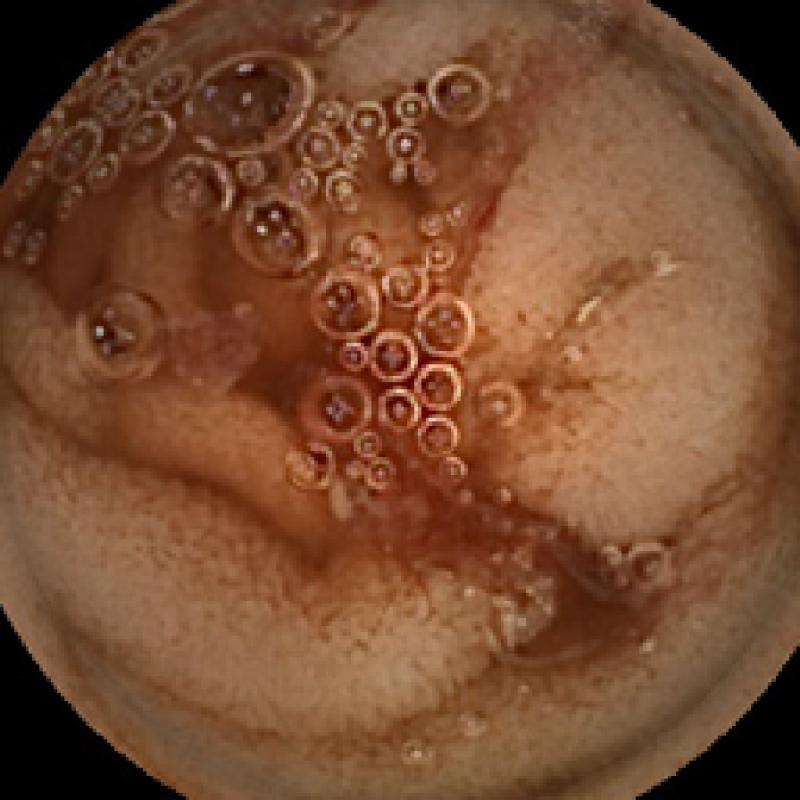bleeding: (178, 322, 536, 578)
